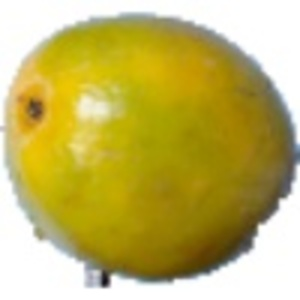maracujá: (2, 11, 300, 289)
